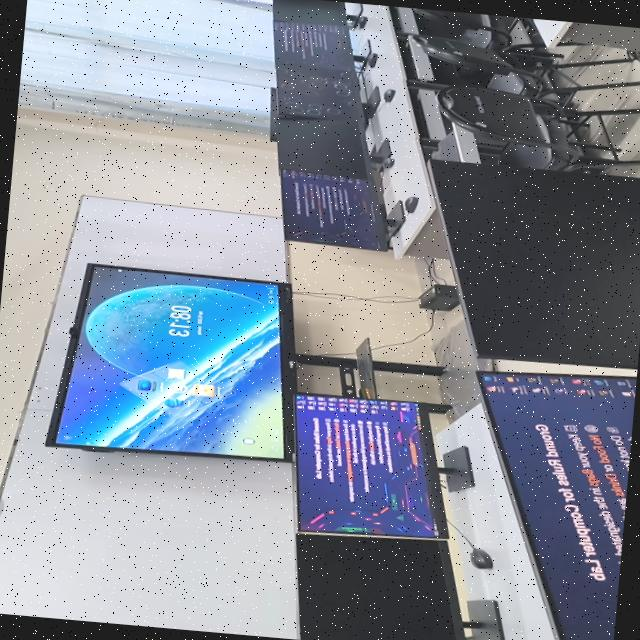Chair: (410, 34, 640, 110), (435, 86, 640, 169), (409, 7, 544, 50)
Digital board: (46, 262, 494, 461)
Keyboard: (410, 89, 429, 136), (410, 90, 429, 136), (431, 130, 459, 160), (398, 37, 418, 78), (442, 117, 451, 132), (393, 6, 397, 21)
Monitor: (477, 371, 636, 640), (435, 160, 640, 367), (295, 393, 473, 537), (296, 532, 505, 640), (280, 168, 404, 250), (279, 116, 390, 180), (279, 60, 381, 119), (273, 20, 370, 70), (272, 0, 360, 23), (269, 87, 277, 140)
Mouse: (469, 547, 492, 568), (403, 195, 418, 212), (350, 14, 367, 28), (382, 88, 395, 101), (366, 52, 377, 66), (382, 156, 393, 167)
